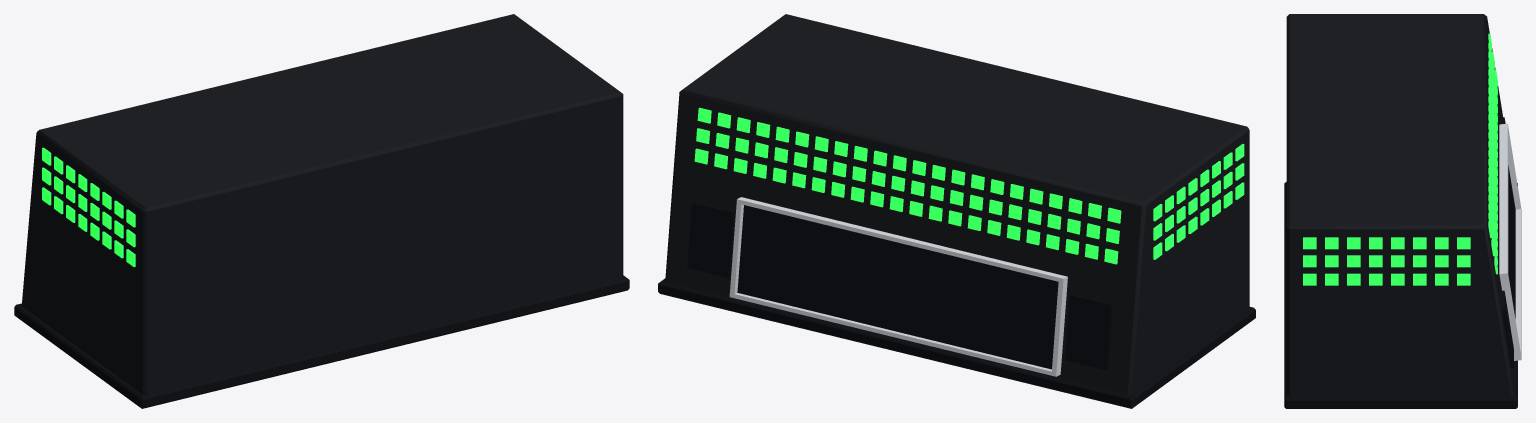
Rendered from deck_led_panel.glb.
The picture shows the model from 3 angles, left to right: view 1: azimuth 30°, elevation 25°; view 2: azimuth 150°, elevation 25°; view 3: azimuth 270°, elevation 25°; orthographic projection. The views are drawn at different scales.
Visible parts, largest first — view 1: deck_led_panel_deco_body, deck_led_panel_deco_trim, deck_led_panel_deco_led; view 2: deck_led_panel_deco_body, deck_led_panel_deco_trim, deck_led_panel_deco_led, deck_led_panel_chrome; view 3: deck_led_panel_deco_body, deck_led_panel_deco_led, deck_led_panel_deco_trim, deck_led_panel_chrome.
Part boxes in pixels (box(x1,y1,x2,y2)): deck_led_panel_deco_body: box(21, 14, 623, 395); deck_led_panel_deco_trim: box(14, 275, 629, 408); deck_led_panel_deco_led: box(42, 147, 135, 266); deck_led_panel_deco_body: box(665, 14, 1249, 395); deck_led_panel_deco_trim: box(658, 202, 1255, 408); deck_led_panel_deco_led: box(694, 107, 1244, 264); deck_led_panel_chrome: box(729, 197, 1067, 376); deck_led_panel_deco_body: box(1286, 14, 1513, 396); deck_led_panel_deco_led: box(1303, 33, 1497, 285); deck_led_panel_deco_trim: box(1284, 117, 1517, 408); deck_led_panel_chrome: box(1499, 123, 1521, 360).
Bounding box in the file's own units: 2.14 × 0.8296 × 0.985.
